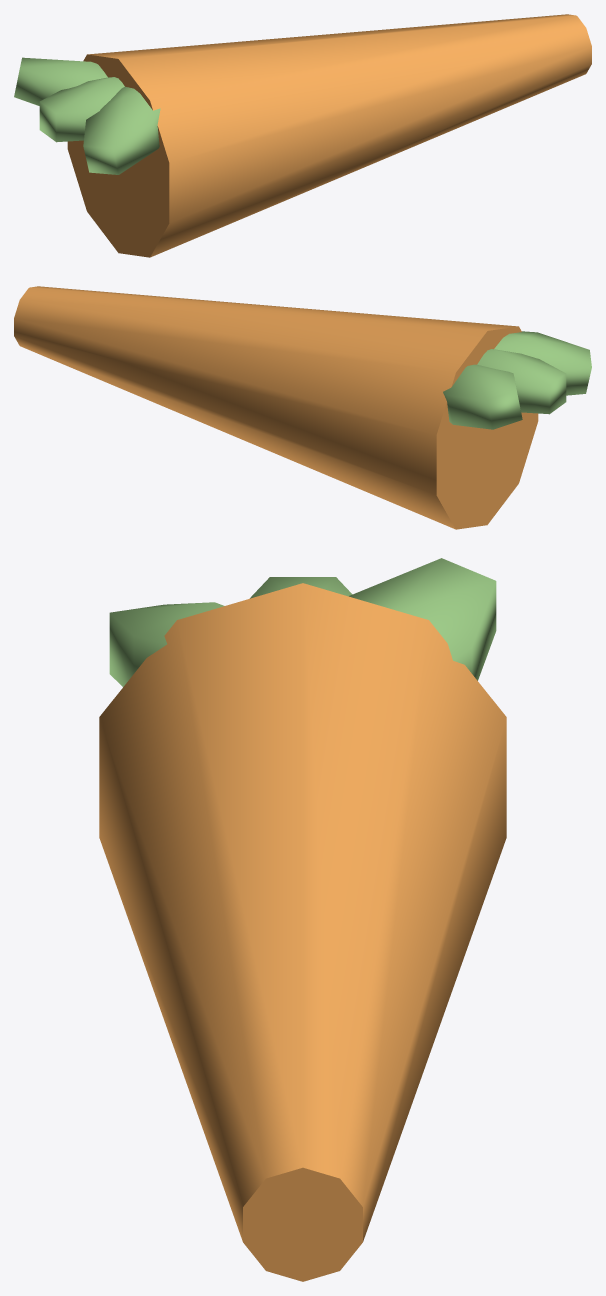
The model's file is carrot.glb.
The picture shows the model from 3 angles, top to bottom: view 1: azimuth 30°, elevation 25°; view 2: azimuth 150°, elevation 25°; view 3: azimuth 270°, elevation 25°; orthographic projection. The views are drawn at different scales.
Parts seen in each view (by area): view 1: carrot_root, carrot_leaf_1, carrot_leaf_0, carrot_leaf_-1; view 2: carrot_root, carrot_leaf_-1, carrot_leaf_0, carrot_leaf_1; view 3: carrot_root, carrot_leaf_-1, carrot_leaf_1, carrot_leaf_0.
Part boxes in pixels (x1,y1,x2,y2): carrot_root: [67, 14, 591, 257]; carrot_leaf_1: [83, 86, 160, 174]; carrot_leaf_0: [39, 77, 124, 142]; carrot_leaf_-1: [14, 57, 107, 105]; carrot_root: [14, 286, 538, 529]; carrot_leaf_-1: [443, 364, 522, 429]; carrot_leaf_0: [477, 349, 566, 414]; carrot_leaf_1: [494, 331, 591, 395]; carrot_root: [99, 583, 506, 1281]; carrot_leaf_-1: [349, 558, 496, 680]; carrot_leaf_1: [109, 602, 224, 686]; carrot_leaf_0: [250, 577, 352, 598].
Bounding box in the file's own units: 0.4846 × 0.17 × 0.1617.
